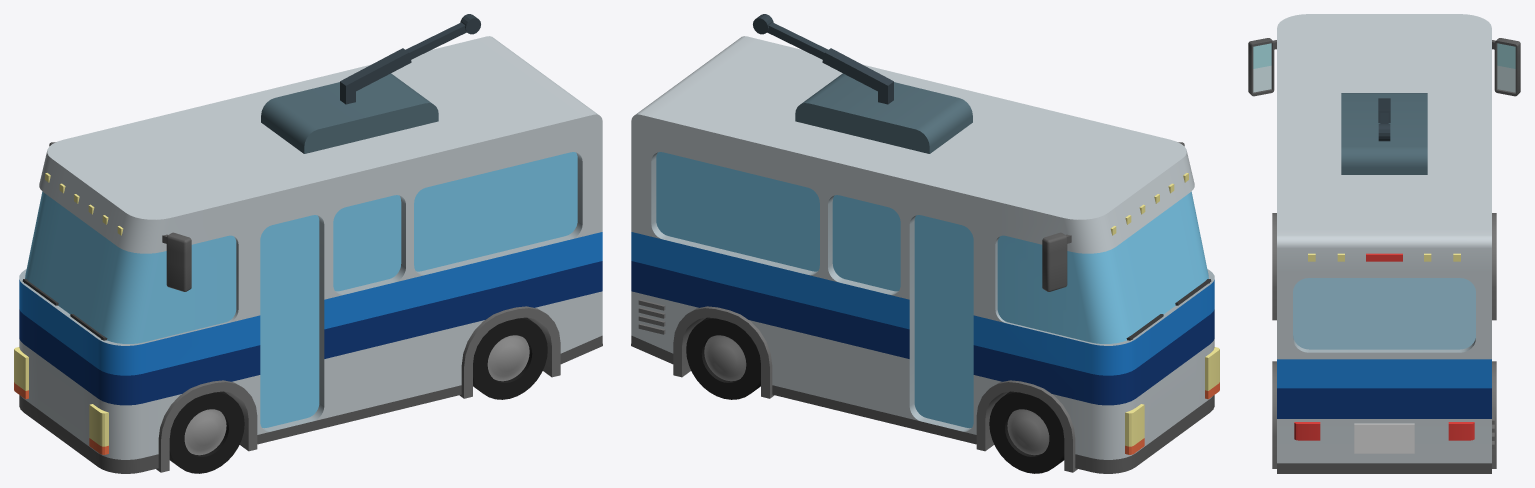
Rendered from trolleybus.fbx.
The picture shows the model from 3 angles, left to right: view 1: azimuth 30°, elevation 25°; view 2: azimuth 150°, elevation 25°; view 3: azimuth 270°, elevation 25°; orthographic projection.
Visible parts, largest first — view 1: Cube.615; view 2: Cube.615; view 3: Cube.615.
Part boxes in pixels (bbox=[...]): Cube.615: bbox=[14, 14, 602, 473]; Cube.615: bbox=[631, 14, 1219, 473]; Cube.615: bbox=[1248, 14, 1520, 473].
Bounding box in the file's own units: 227 × 148 × 107.
1 material, 1 textured.
